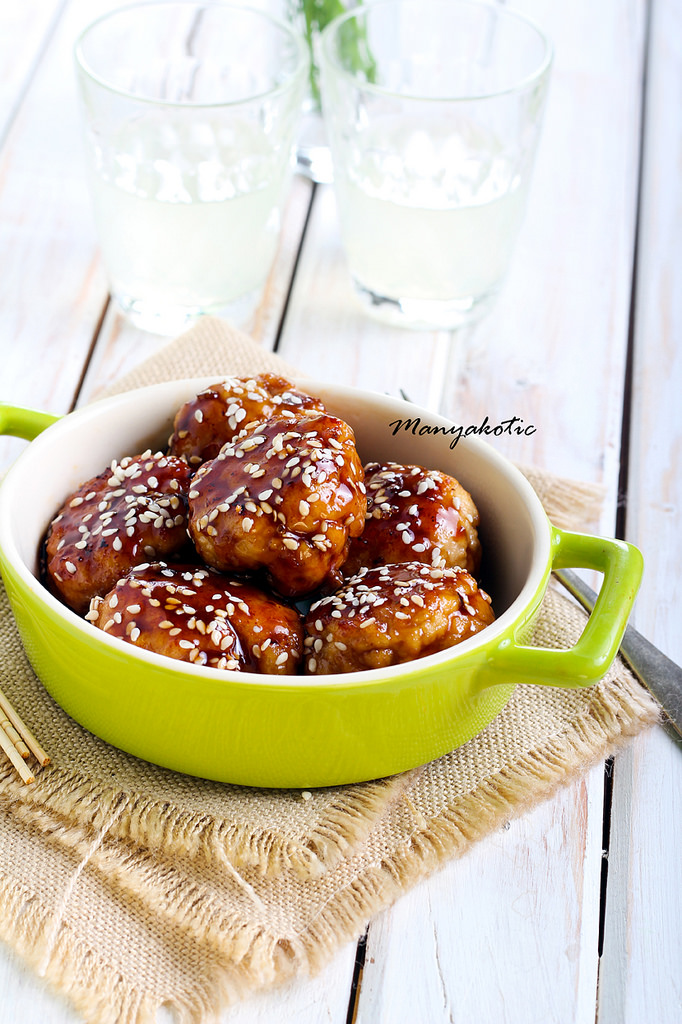meatballs: (50, 381, 484, 655), (193, 411, 363, 584)
